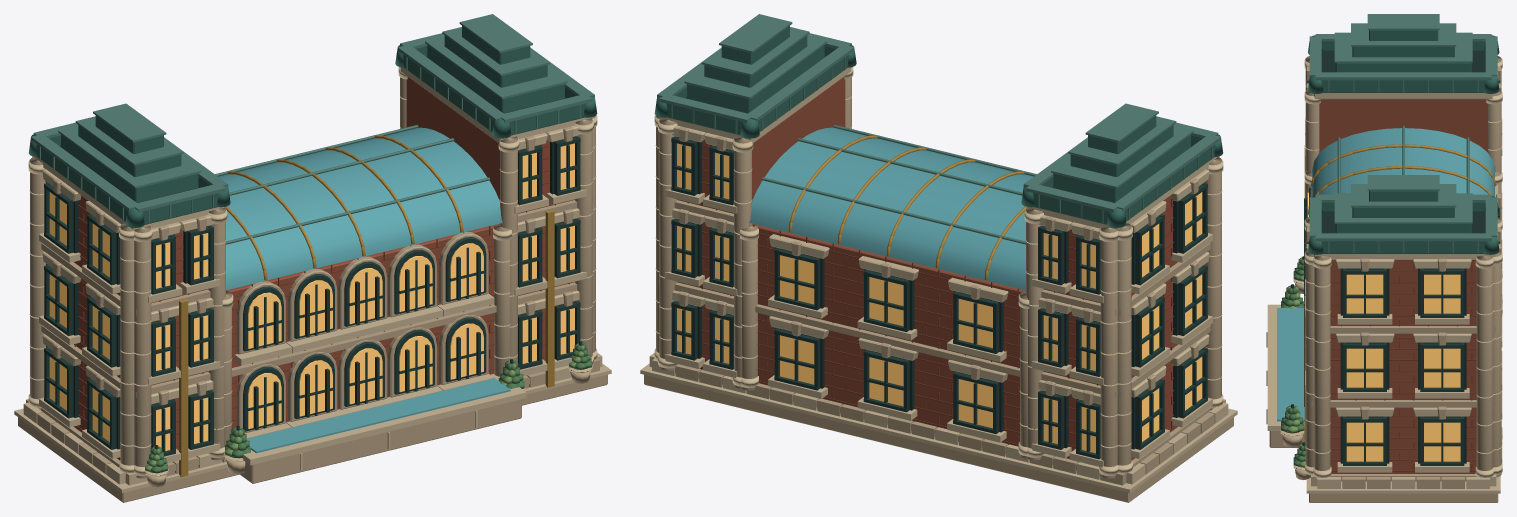
3 views of the same model, side by side, from view 1: azimuth 30°, elevation 25°; view 2: azimuth 150°, elevation 25°; view 3: azimuth 270°, elevation 25° (orthographic). The views are drawn at different scales.
Parts seen in each view (by area): view 1: expansion_onsen_2_geometry; view 2: expansion_onsen_2_geometry; view 3: expansion_onsen_2_geometry.
Boxes of the visible parts, bbox=[...] form: expansion_onsen_2_geometry: bbox=[14, 14, 611, 502]; expansion_onsen_2_geometry: bbox=[640, 14, 1237, 502]; expansion_onsen_2_geometry: bbox=[1266, 14, 1502, 502].
Size of the model in its own units: 2.19 by 1.4 by 1.02.
